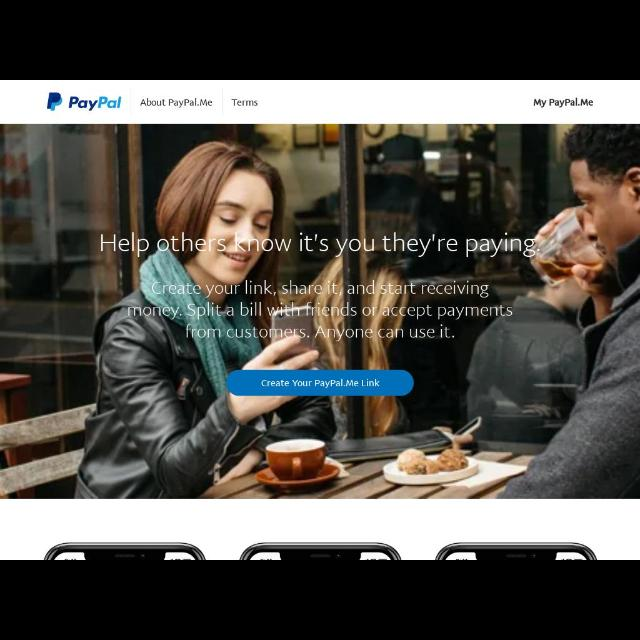backgroundimage: (1, 125, 639, 499)
image: (240, 542, 402, 560), (435, 542, 597, 560), (44, 543, 206, 559), (48, 92, 122, 111)
text: (128, 280, 512, 342), (102, 233, 540, 257), (261, 378, 381, 388), (141, 98, 213, 108), (533, 98, 593, 108), (232, 99, 258, 107)
textbutton: (226, 370, 414, 396)
toolbar: (1, 80, 640, 124)
